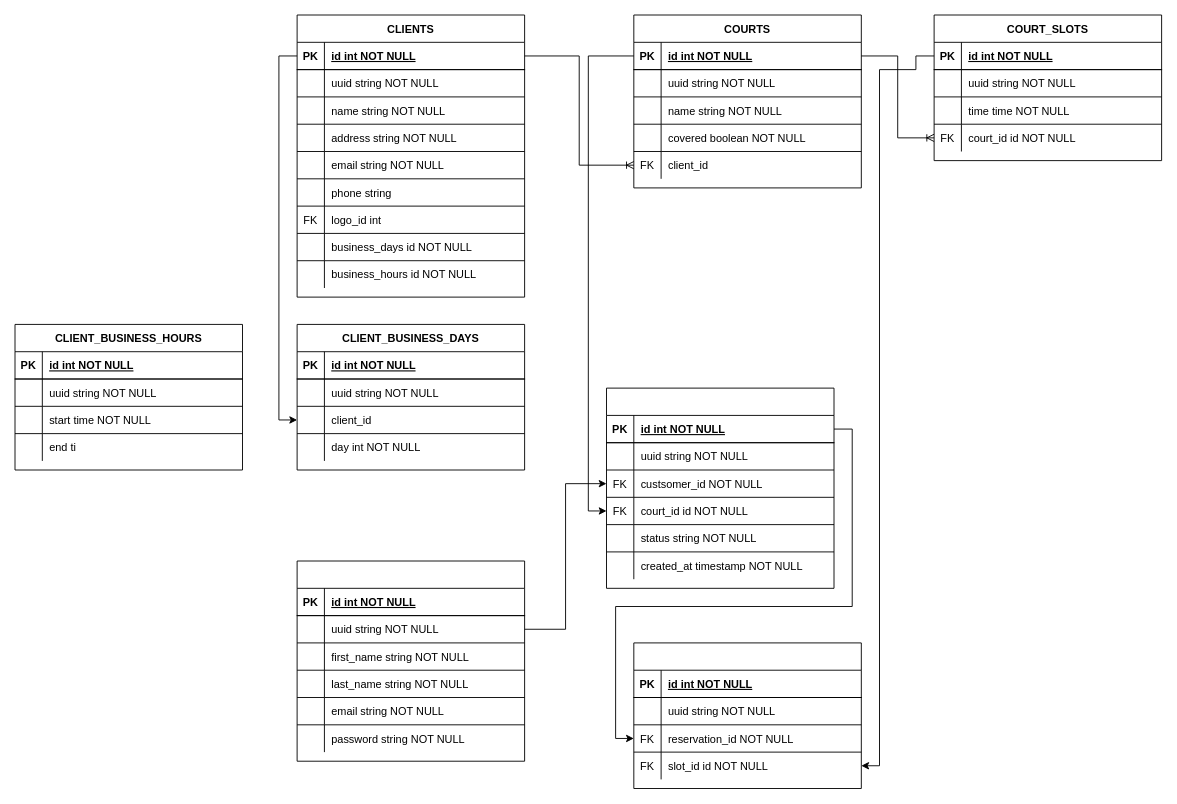
This 1177x804 diagram has some shape labels left out. The box of each missing label's shape, as (x1, y1, x2, y2) in pixels:
CUSTOMERS: (296, 560, 525, 761)
RESERVATION_SLOTS: (633, 642, 861, 789)
RESERVATIONS: (606, 387, 834, 588)
